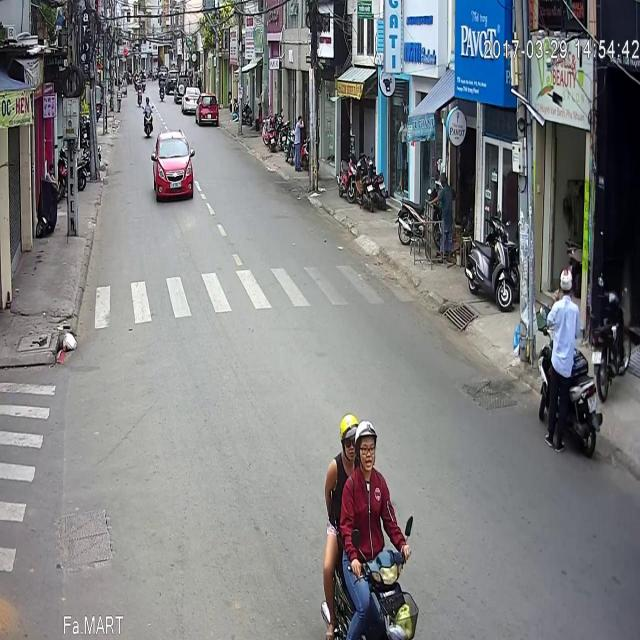car: (150, 73, 194, 147), (195, 34, 219, 68)
motorcycle: (321, 352, 418, 609), (536, 203, 602, 401), (142, 36, 154, 80)
